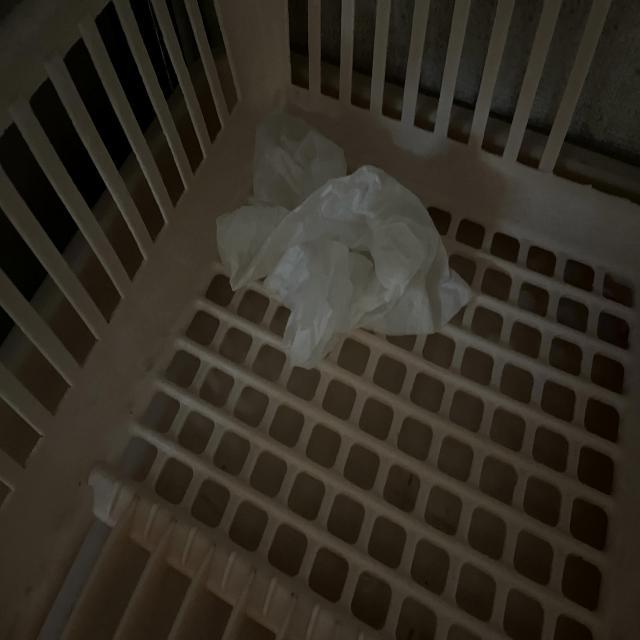Paper: (226, 144, 428, 347)
